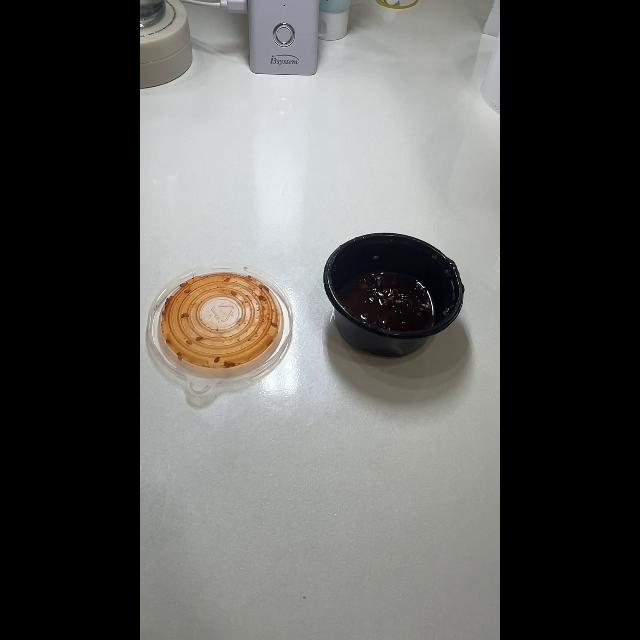dirty: (322, 232, 464, 358), (160, 274, 282, 371)
